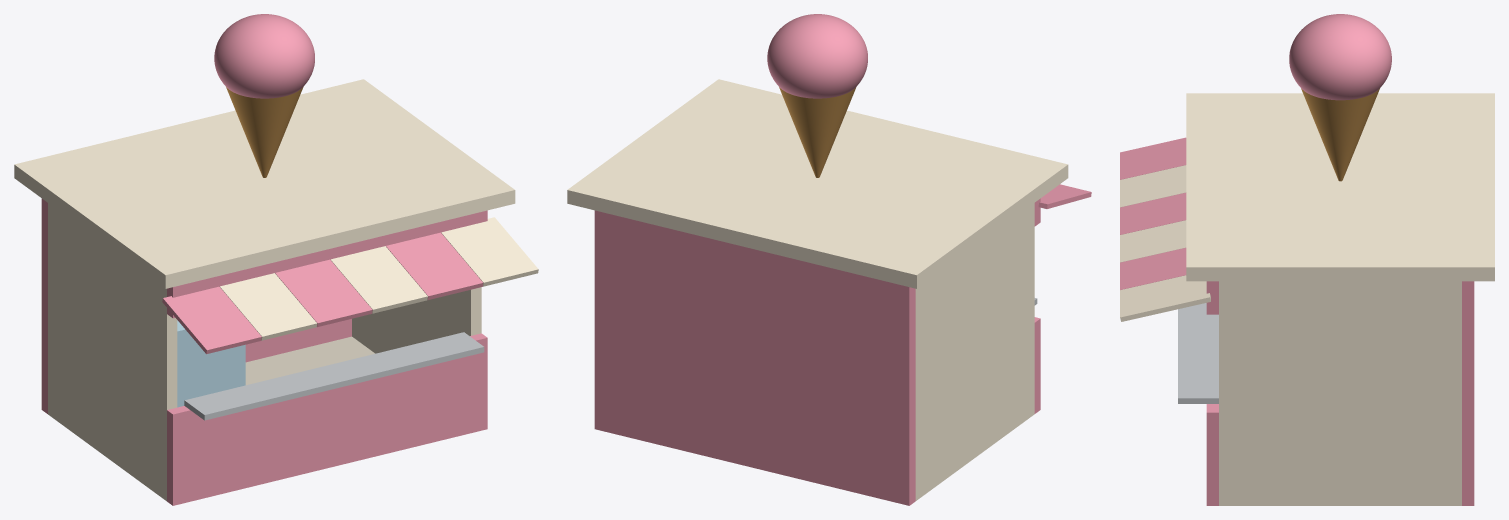
The model's file is structure.glb.
3 renders of one model, left to right at view 1: azimuth 30°, elevation 25°; view 2: azimuth 150°, elevation 25°; view 3: azimuth 270°, elevation 25°, orthographic.
Visible parts, largest first — view 1: Box15, Box2, Box4, Solid1, Box7, Box3, Box8, Box5, Box13, Box11, Box9, Box12 (+4 smaller); view 2: Box1, Box15, Box2, Solid1, Box8, Box4; view 3: Box15, Box3, Solid1, Box7, Box1, Box13, Box9, Box8, Box10, Box11, Box12, Box4.
Boxes of the visible parts, box(x1,y1,x2,y2) form: Box15: box(14, 79, 515, 288); Box2: box(48, 203, 177, 501); Box4: box(167, 333, 487, 505); Solid1: box(214, 14, 314, 177); Box7: box(184, 332, 484, 420); Box3: box(352, 287, 481, 353); Box8: box(162, 286, 261, 354); Box5: box(167, 210, 487, 318); Box13: box(441, 217, 538, 286); Box11: box(330, 246, 427, 313); Box9: box(219, 273, 317, 340); Box12: box(386, 232, 483, 299); Box1: box(594, 210, 915, 505); Box15: box(567, 79, 1068, 288); Box2: box(915, 203, 1034, 500); Solid1: box(767, 14, 867, 177); Box8: box(1038, 184, 1091, 208); Box4: box(1034, 317, 1040, 413); Box15: box(1186, 93, 1494, 281); Box3: box(1219, 281, 1461, 505); Solid1: box(1289, 14, 1391, 181); Box7: box(1178, 303, 1218, 403); Box1: box(1462, 281, 1474, 505); Box13: box(1120, 275, 1210, 321); Box9: box(1120, 165, 1186, 207); Box8: box(1120, 137, 1186, 179); Box10: box(1120, 192, 1186, 234); Box11: box(1120, 220, 1186, 262); Box12: box(1120, 248, 1186, 289); Box4: box(1206, 404, 1218, 505).
Size of the model in its own units: 4 by 4.38 by 3.64.
